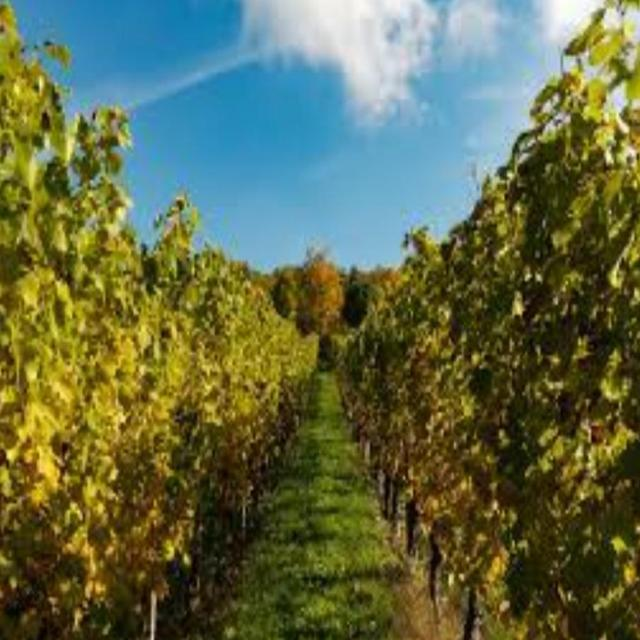row: (200, 367, 460, 639)
